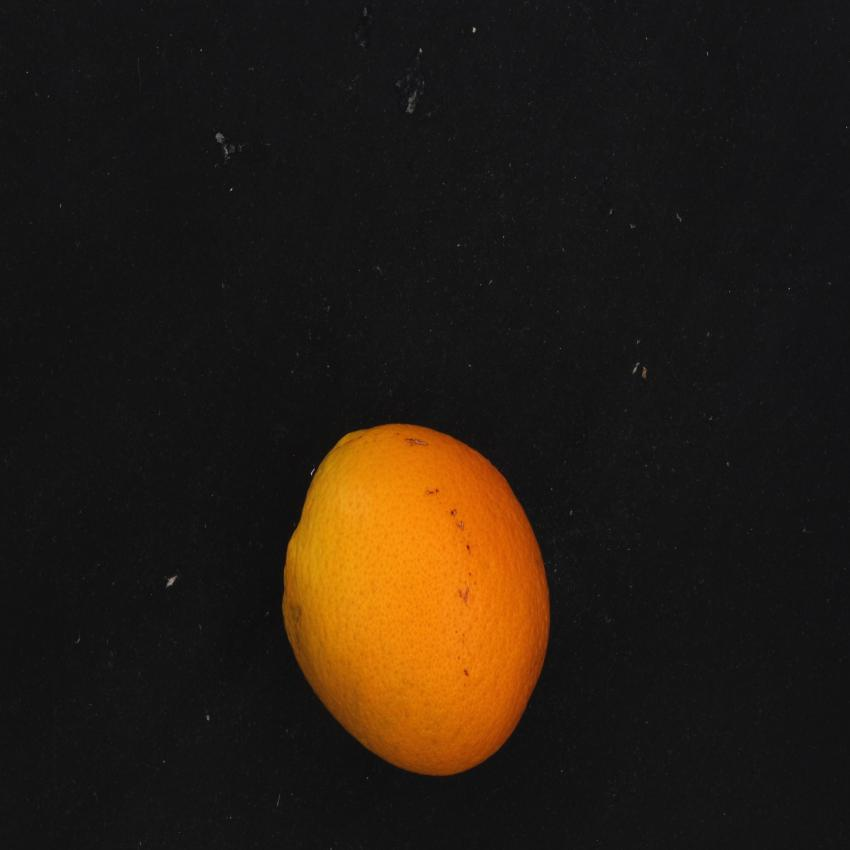Buen estado: (277, 397, 561, 793)
